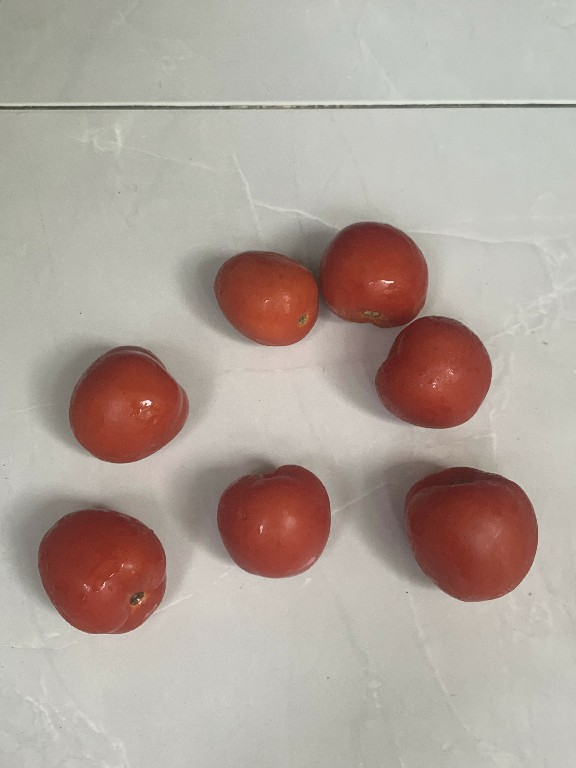OK: (396, 457, 544, 613), (29, 495, 173, 639), (57, 335, 194, 469), (207, 450, 336, 582), (364, 303, 493, 432), (317, 202, 433, 336), (203, 230, 319, 349)
